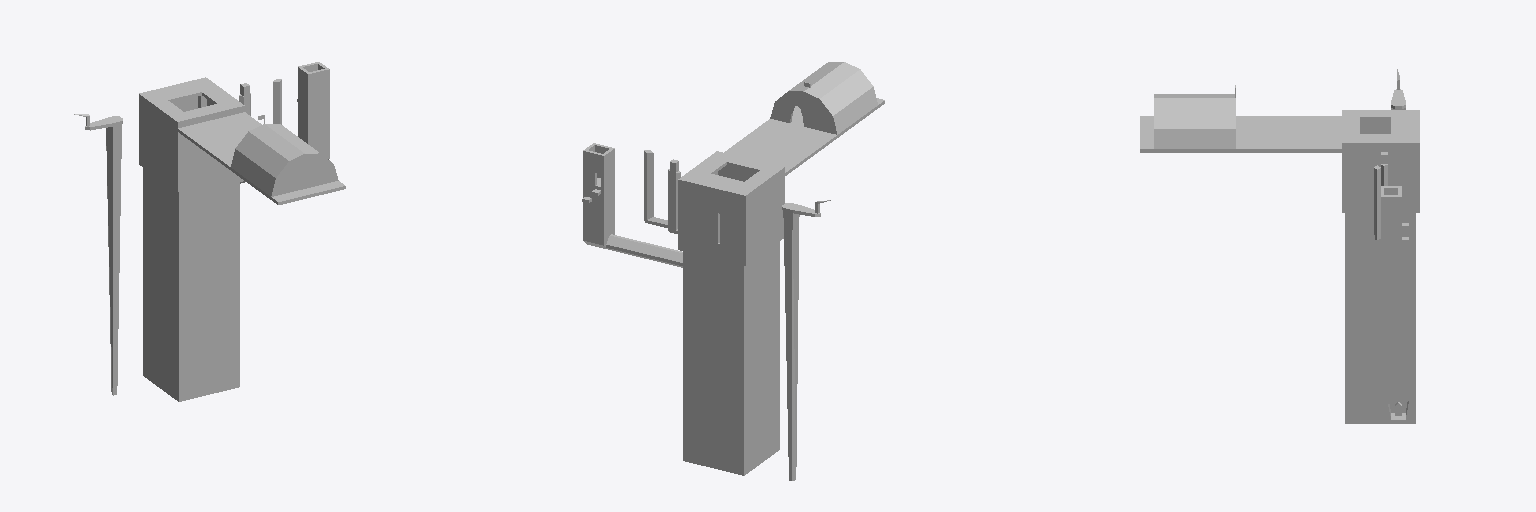
Rendered from playroom.obj.
3 views of the same model, side by side, from view 1: azimuth 30°, elevation 25°; view 2: azimuth 150°, elevation 25°; view 3: azimuth 270°, elevation 25° (orthographic).
Parts seen in each view (by area): view 1: entity0_brush1; view 2: entity0_brush1; view 3: entity0_brush1.
Part boxes in pixels (x1,y1,x2,y2): entity0_brush1: (74, 62, 345, 401); entity0_brush1: (582, 62, 884, 480); entity0_brush1: (1140, 69, 1419, 423).
Size of the model in its own units: 130 by 161 by 126.